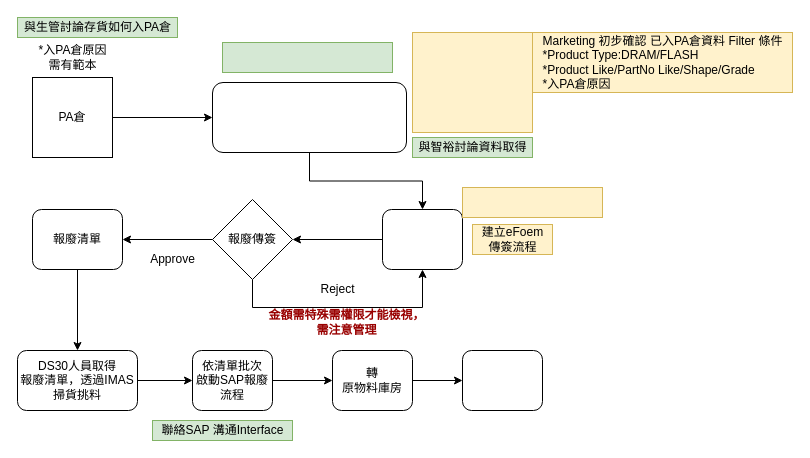
Image size: 810x458. Some labels were removed from this diagram. Each missing label, with the centre of its shape:
"Marketing 初步確認顯示欄位 須有 [入PA倉原因][idle時間]" goes at point 307,57.
"事業處透過WPOS條件勾選PA倉中要報廢的品項，透過會計核算貨品金額集結成清單。" goes at point 309,117.
"啟動報廢簽核流程" goes at point 422,239.
"將要報廢的品項Staus 註記為啟動報廢流程中" goes at point 532,202.
"資料來源：WPOS 撈取條件： 1.PPSG 2.Lot 3.Location= PA? 4.StockType = 1 5.Status = 可挑選" goes at point 472,82.
"通知廠商報廢" goes at point 502,380.
